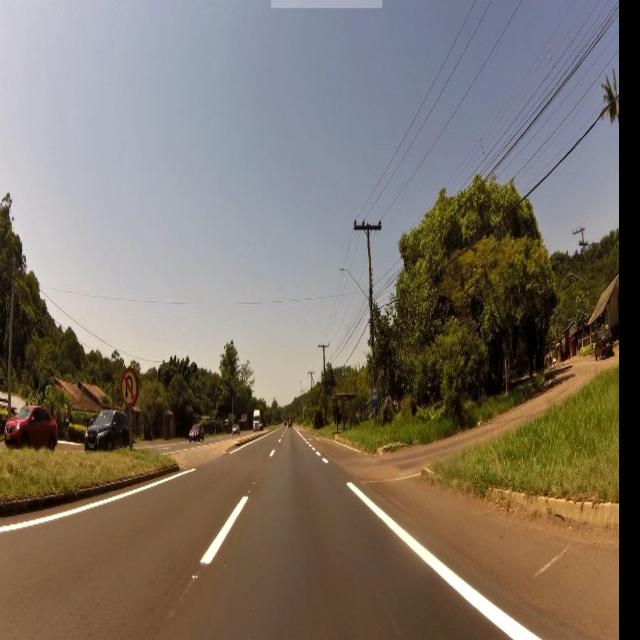R-5a: (118, 366, 143, 408)
